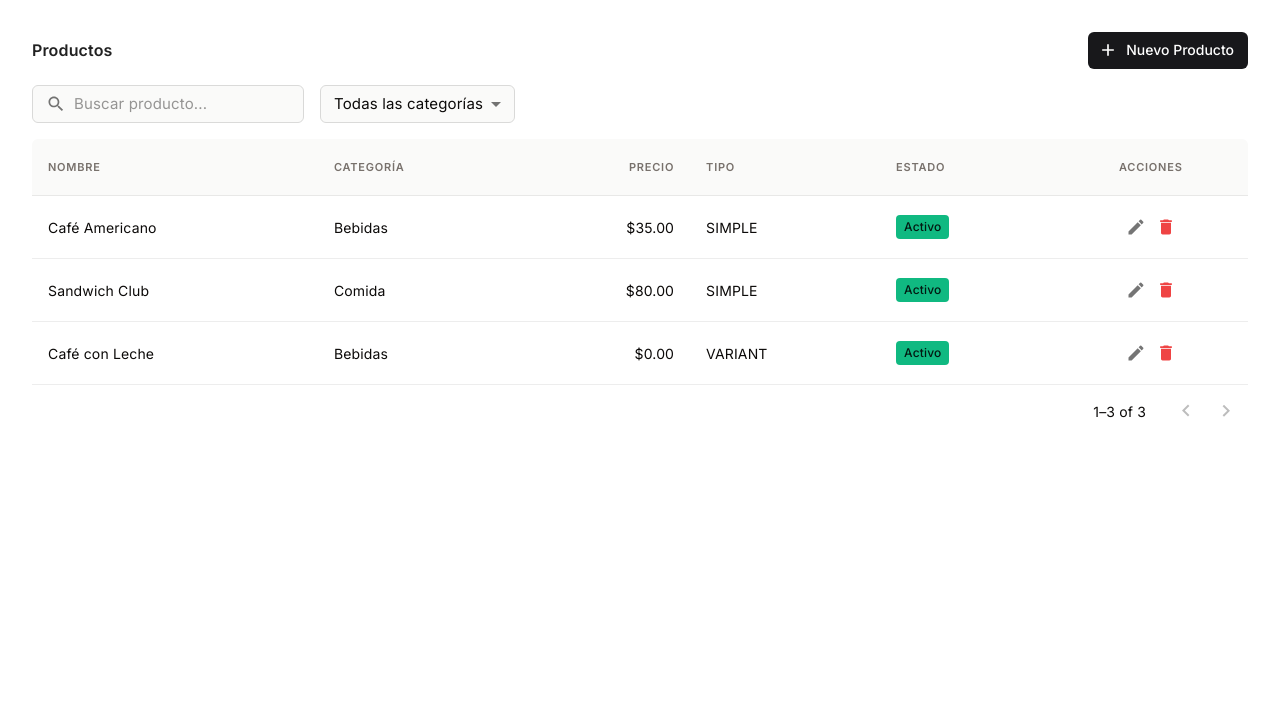
Test: ProductList › cancels delete when cancel is clicked
Expected: the text "Café Americano" is shown, top-left (32, 196), bottom-right (318, 259)
Step 1. Click the button named "eliminar" → (1166, 227), box top-left (1151, 212), bottom-right (1181, 242)
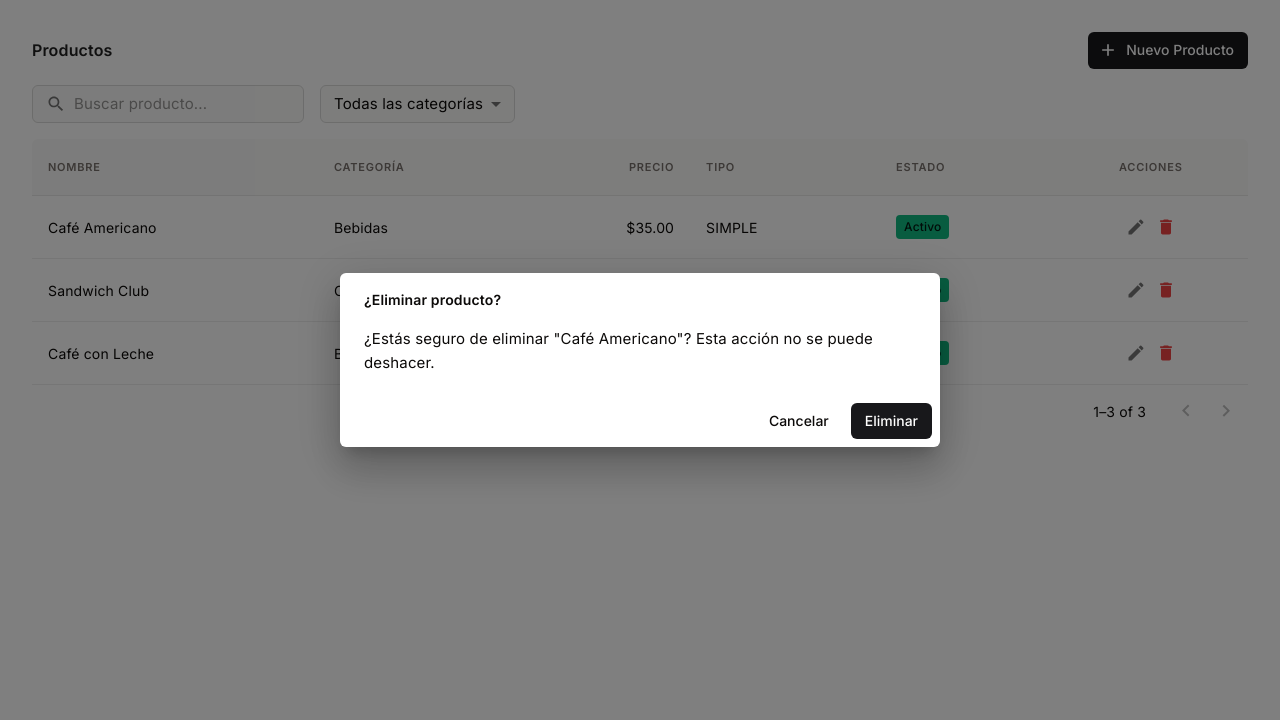
Step 2. Click the button "Cancelar" → (799, 421), box top-left (755, 403), bottom-right (843, 439)
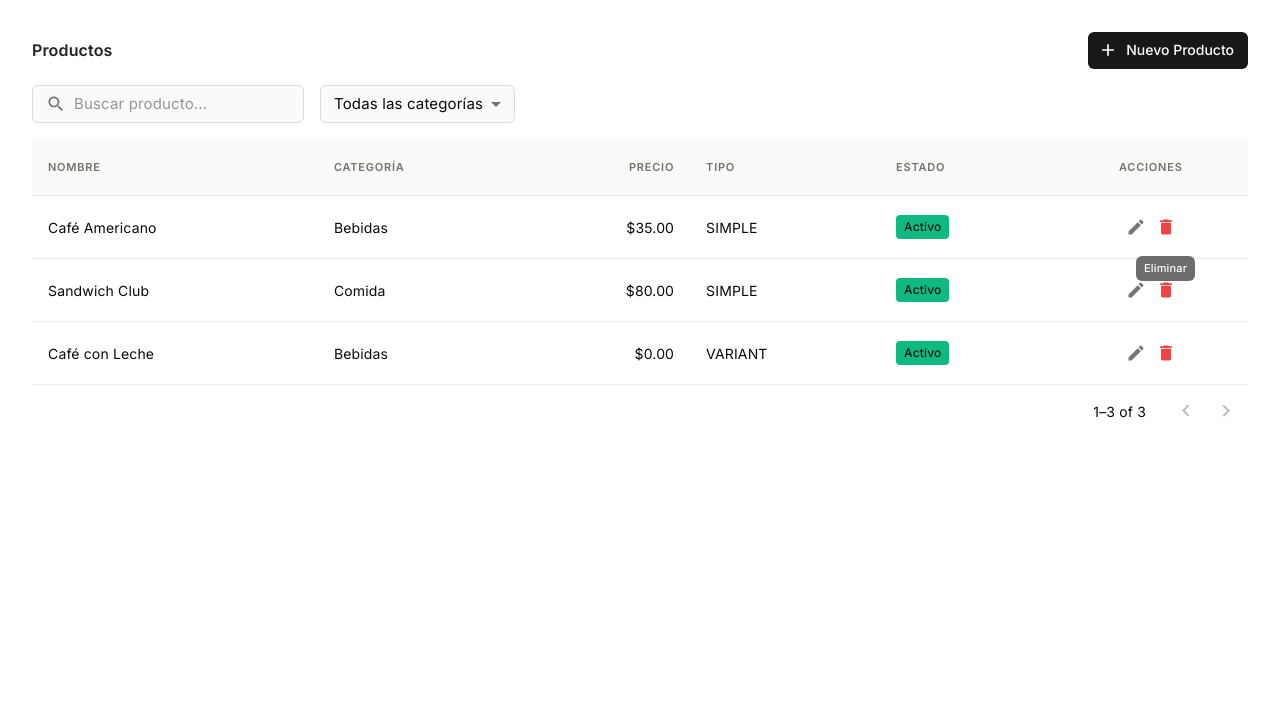
Now the dialog is gone
